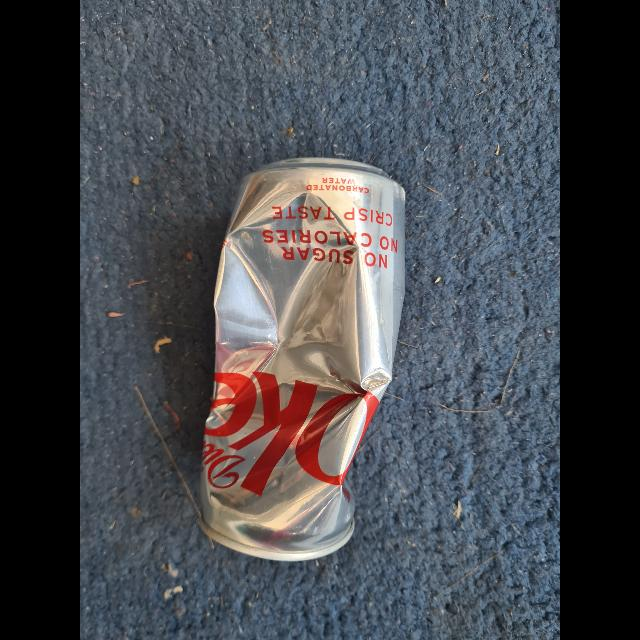trash: (196, 156, 406, 562)
